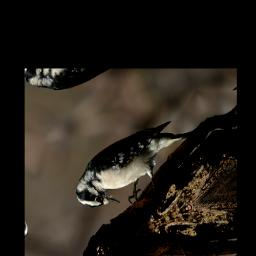Woodpecker: (64, 106, 212, 226)
